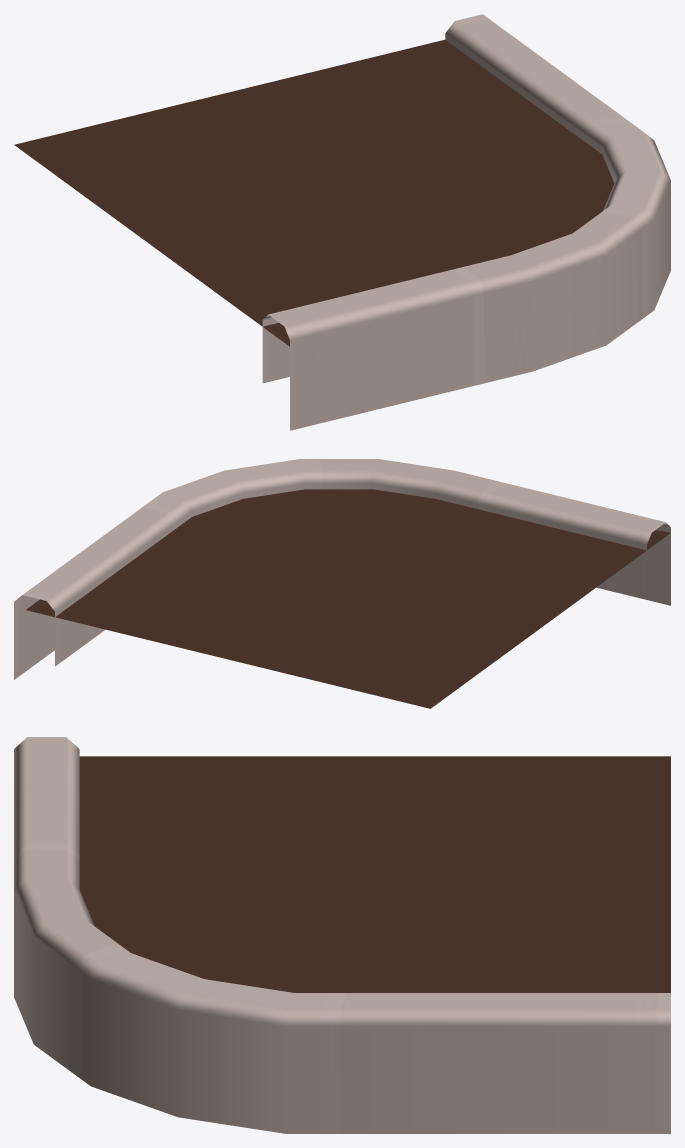
The model's file is GardenBed_Modular_2m_CornerEnd.fbx.
The picture shows the model from 3 angles, top to bottom: view 1: azimuth 30°, elevation 25°; view 2: azimuth 150°, elevation 25°; view 3: azimuth 270°, elevation 25°; orthographic projection. The views are drawn at different scales.
Visible parts, largest first — view 1: GardenBed_Modular_2m_CornerEnd; view 2: GardenBed_Modular_2m_CornerEnd; view 3: GardenBed_Modular_2m_CornerEnd.
Boxes of the visible parts, bbox=[...] form: GardenBed_Modular_2m_CornerEnd: bbox=[14, 14, 670, 430]; GardenBed_Modular_2m_CornerEnd: bbox=[14, 459, 670, 708]; GardenBed_Modular_2m_CornerEnd: bbox=[14, 737, 670, 1133].
Bounding box in the file's own units: 200 × 40 × 200.
